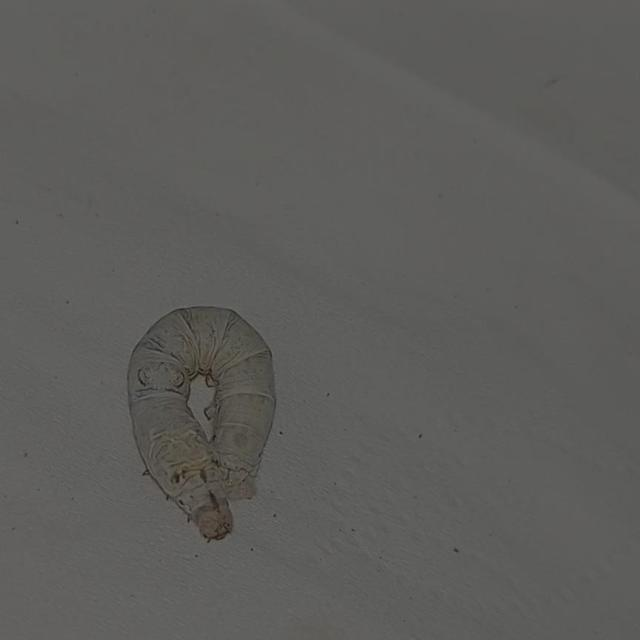Healthy: (110, 283, 303, 554)
